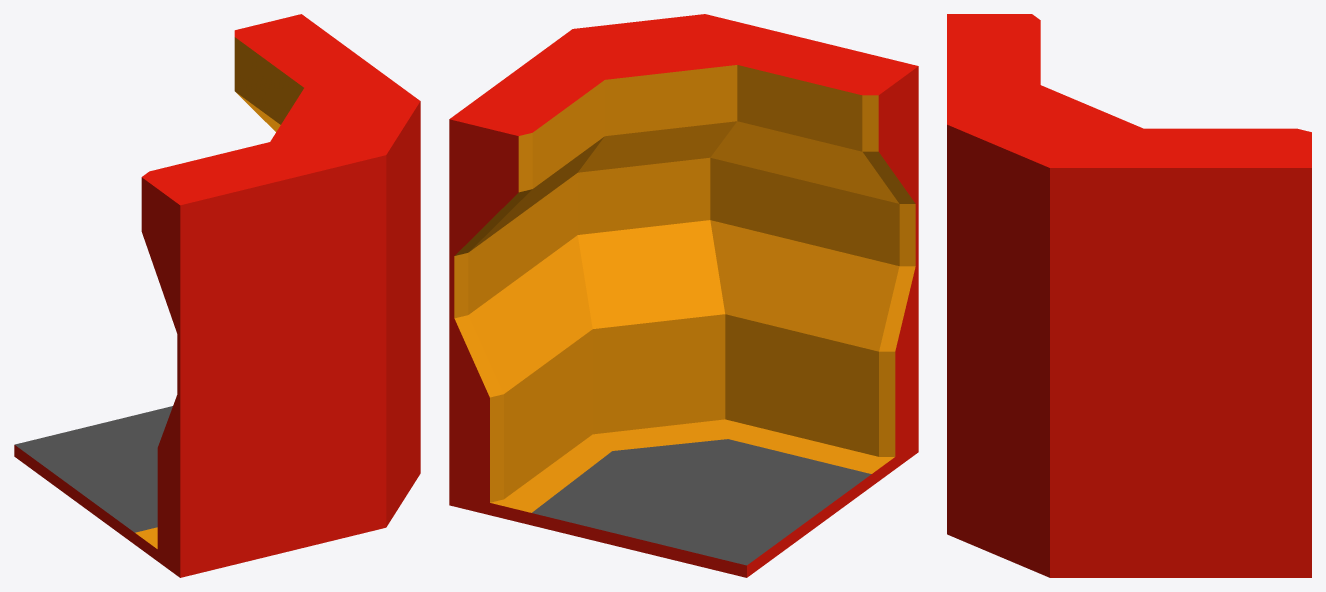
The picture shows the model from 3 angles, left to right: view 1: azimuth 30°, elevation 25°; view 2: azimuth 150°, elevation 25°; view 3: azimuth 270°, elevation 25°; orthographic projection. The views are drawn at different scales.
Parts seen in each view (by area): view 1: S17; view 2: S17; view 3: S17.
Part boxes in pixels (x1=…): S17: x1=14, y1=14, x2=420, y2=577; S17: x1=449, y1=14, x2=918, y2=577; S17: x1=947, y1=14, x2=1311, y2=577.
Size of the model in its own units: 200 by 248 by 200.
